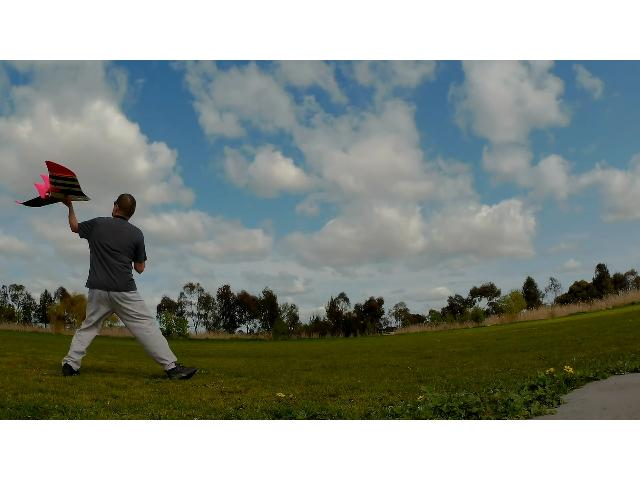Anti-Drone: (12, 151, 100, 218)
